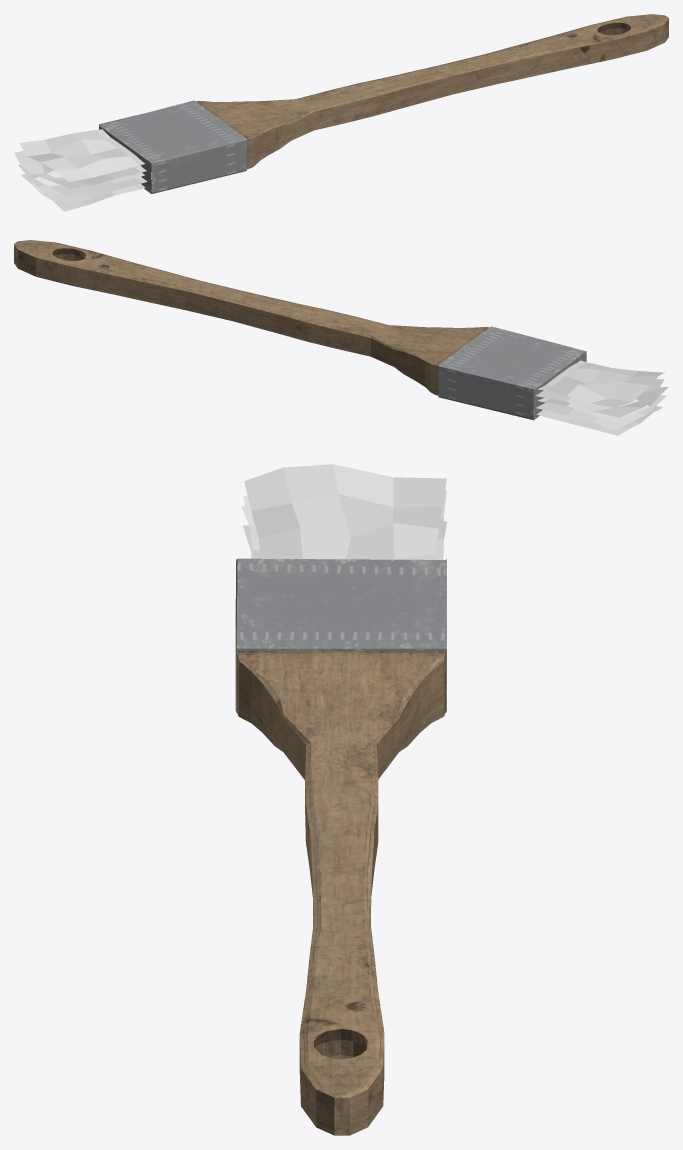
File: Short_Brush.fbx
3 views of the same model, one above another, from view 1: azimuth 30°, elevation 25°; view 2: azimuth 150°, elevation 25°; view 3: azimuth 270°, elevation 25° (orthographic). The views are drawn at different scales.
Visible parts, largest first — view 1: Short_Brush; view 2: Short_Brush; view 3: Short_Brush.
Part boxes in pixels (<box>): Short_Brush: <box>14,14,668,211</box>; Short_Brush: <box>14,240,668,435</box>; Short_Brush: <box>235,464,447,1135</box>.
Bounding box in the file's own units: 0.1567 × 0.00939 × 0.0226.
